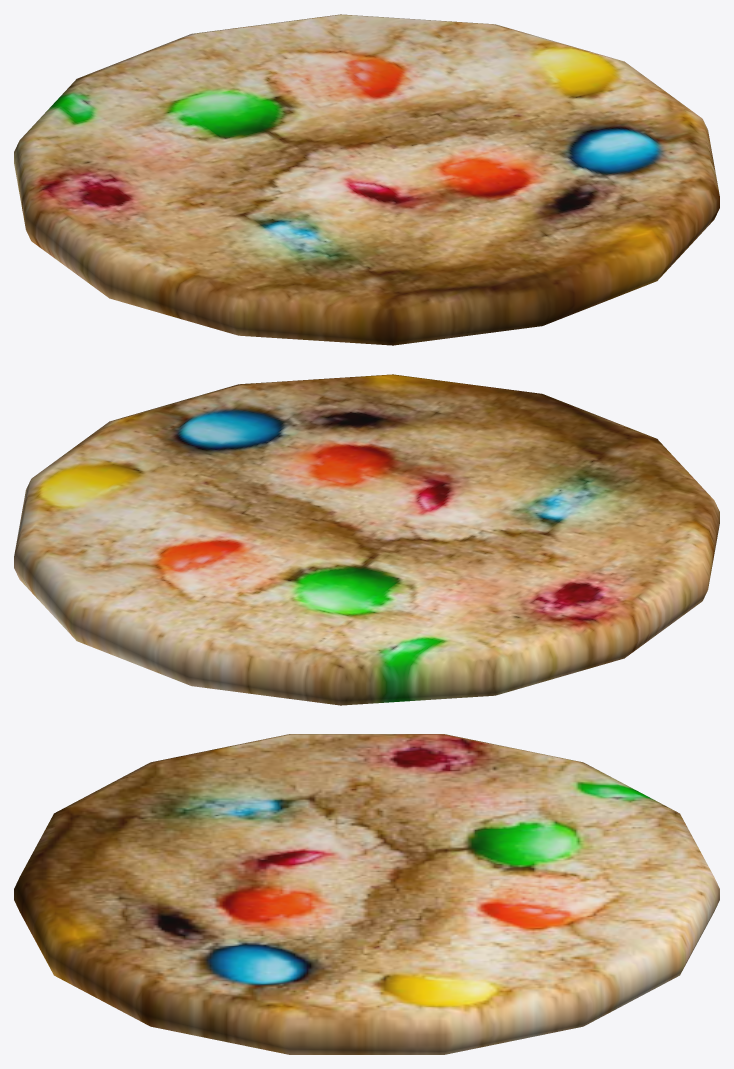
File: candy_waf_6.fbx
3 renders of one model, top to bottom at view 1: azimuth 30°, elevation 25°; view 2: azimuth 150°, elevation 25°; view 3: azimuth 270°, elevation 25°, orthographic.
Parts seen in each view (by area): view 1: c_w_6; view 2: c_w_6; view 3: c_w_6.
Part boxes in pixels (left/top/right/bottom): c_w_6: left=14, top=14, right=719, bottom=345; c_w_6: left=14, top=374, right=719, bottom=705; c_w_6: left=14, top=734, right=719, bottom=1054.
Bounding box in the file's own units: 173 × 12.36 × 177.
